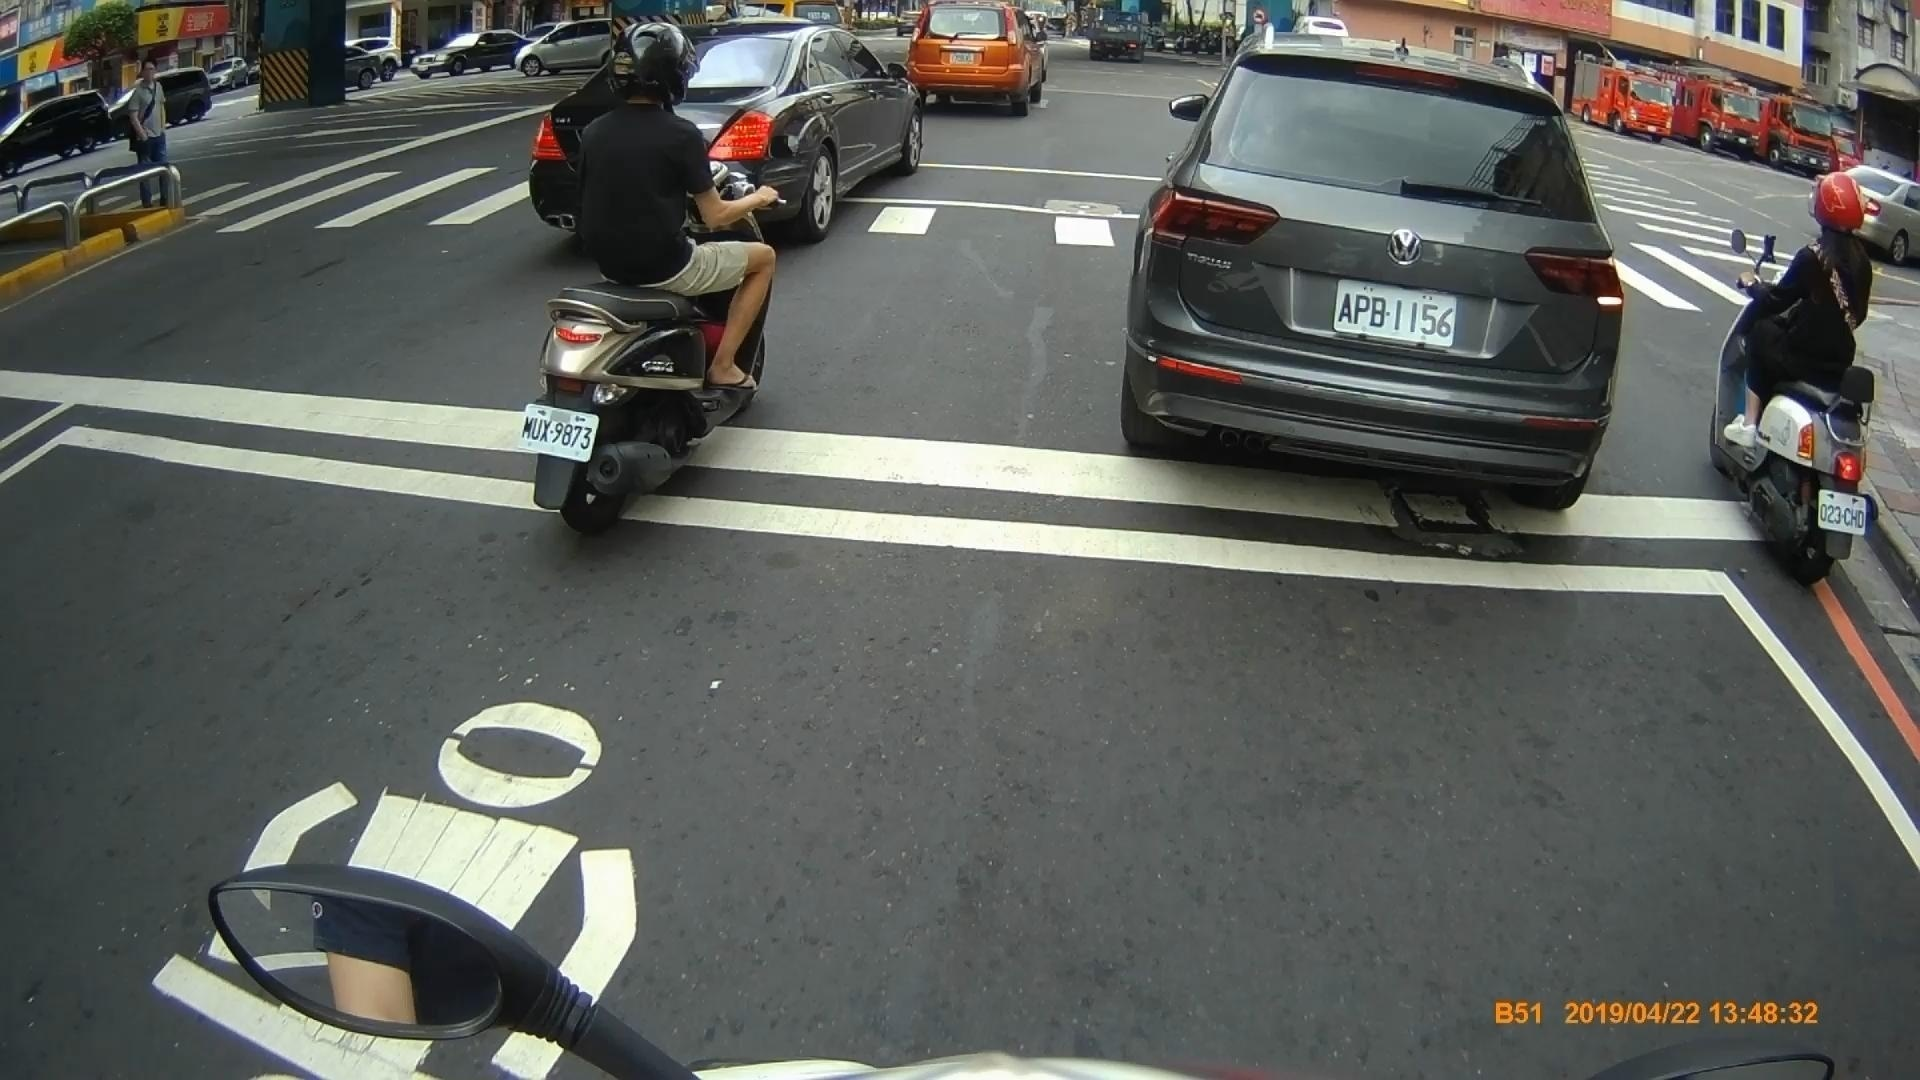License_plate: (1336, 279, 1462, 356), (519, 401, 597, 462), (1812, 488, 1867, 534)
